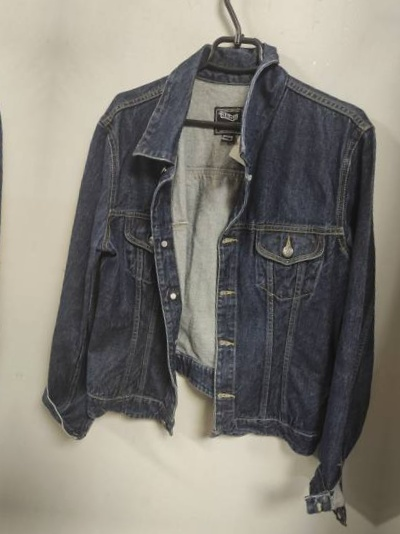Blazer: (24, 33, 400, 517), (0, 0, 41, 476)
